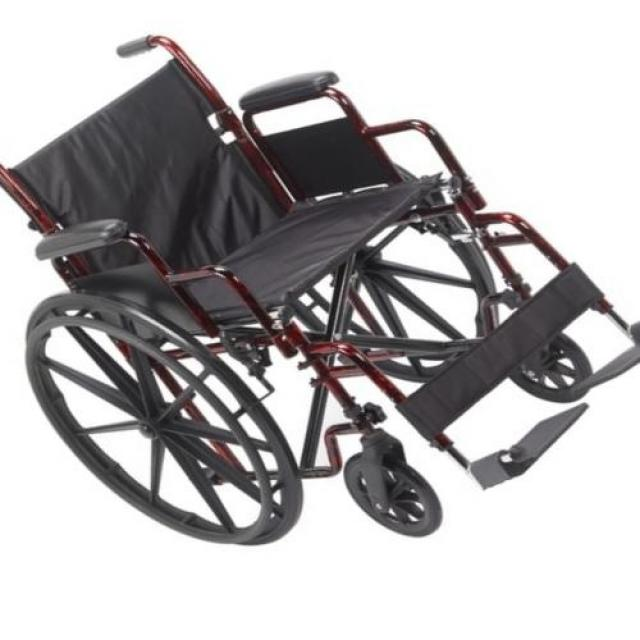wheelchair: (1, 24, 640, 558)
